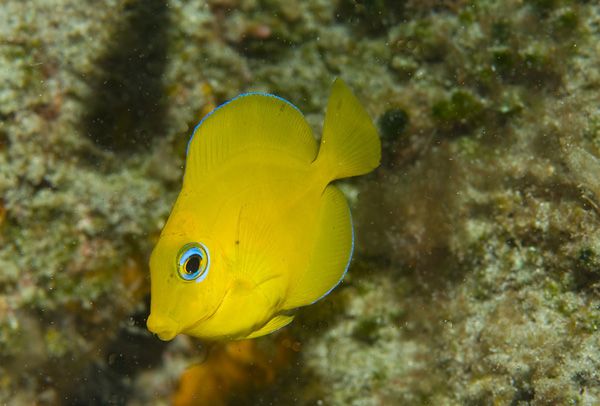Acanthurus_coeruleus: (135, 74, 383, 346)
